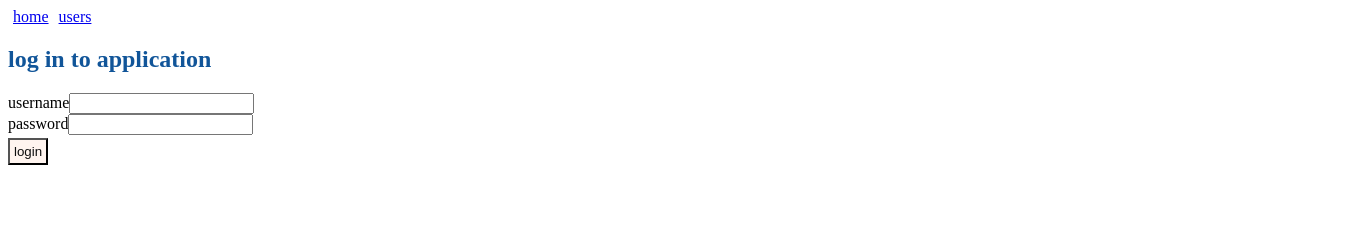
Blog app › Login › fails with wrong credentials
The width and height of the screenshot is (1366, 231).
In the field with id "username": (162, 104) [69, 93, 254, 114], type "non-existent user"
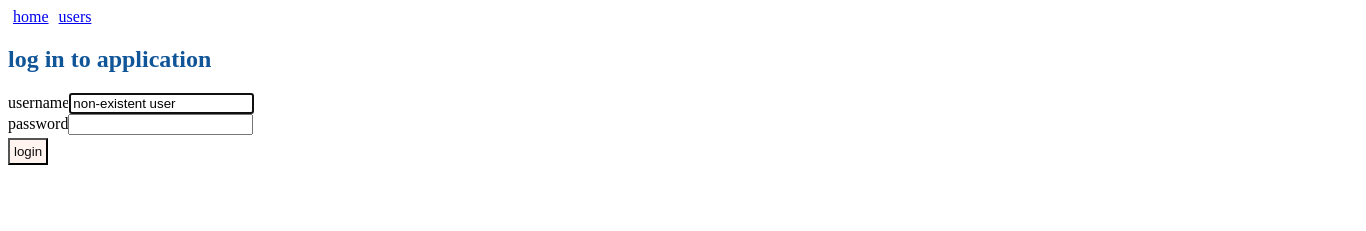
In the password field: (161, 125) [68, 114, 253, 135], type "not a real password"
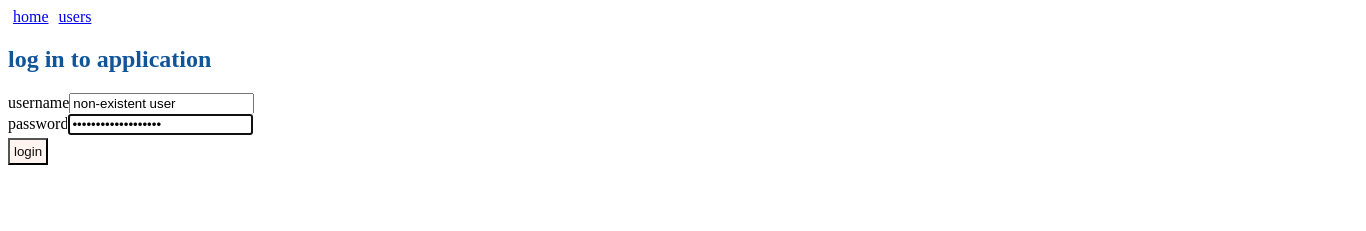
Click the button with id "login-button": (28, 152) [8, 138, 48, 165]
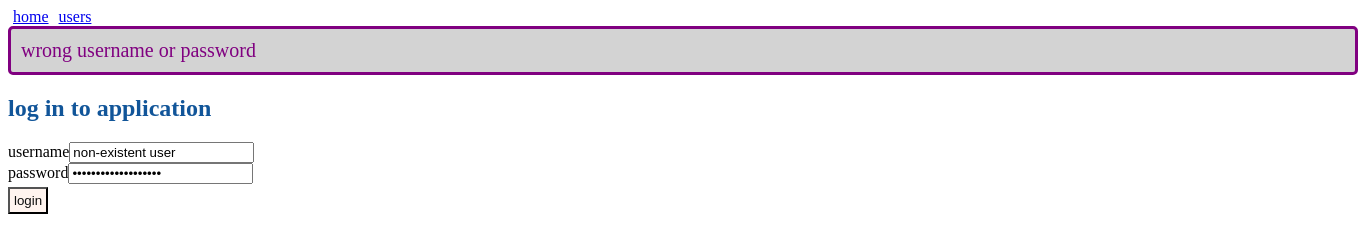
Expected: the text with class "error" reads "wrong username or password", [21, 39, 256, 61]
